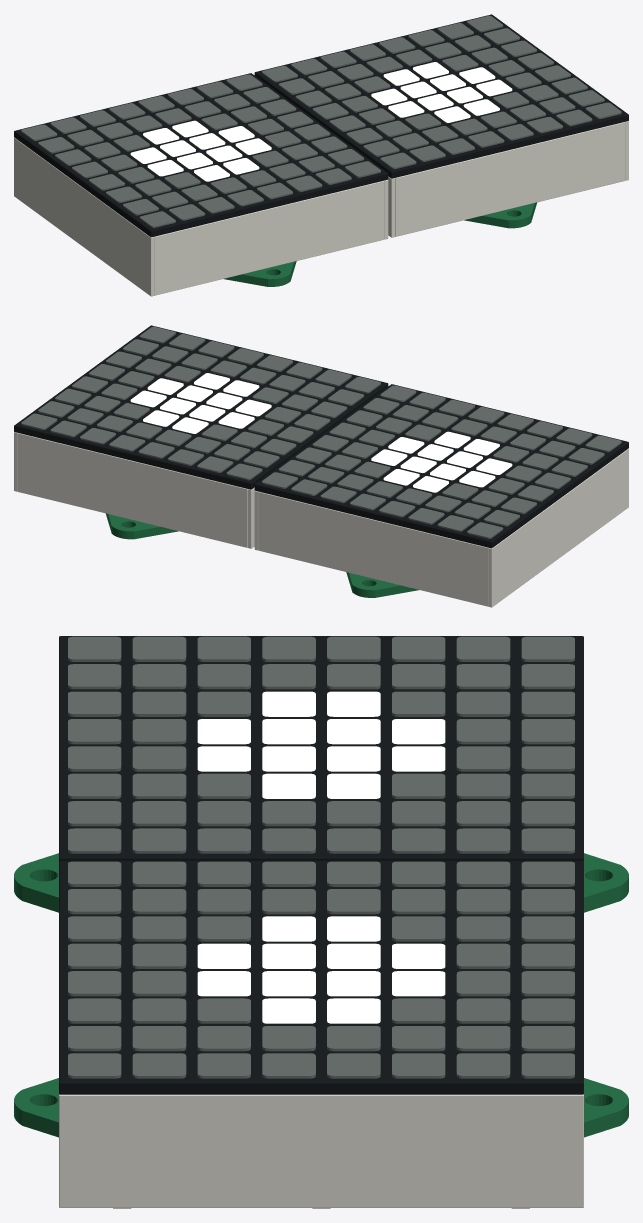
Rendered from matrix.glb.
The picture shows the model from 3 angles, top to bottom: view 1: azimuth 30°, elevation 25°; view 2: azimuth 150°, elevation 25°; view 3: azimuth 270°, elevation 25°; orthographic projection. The views are drawn at different scales.
Parts seen in each view (by area): view 1: plastic (×3), emitter, pcb; view 2: plastic (×3), emitter, pcb; view 3: plastic (×3), emitter, pcb.
Part boxes in pixels (x1,y1,x2,y2): plastic (×3): [14, 14, 628, 296]; emitter: [130, 62, 512, 181]; pcb: [224, 202, 537, 286]; plastic (×3): [14, 325, 628, 607]; emitter: [130, 373, 512, 492]; pcb: [105, 513, 418, 597]; plastic (×3): [59, 636, 583, 1208]; emitter: [197, 691, 445, 1023]; pcb: [14, 853, 628, 1137].
Bounding box in the file's own units: 63.6 × 11.23 × 37.
